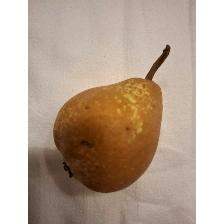Birne: (51, 43, 171, 194)
